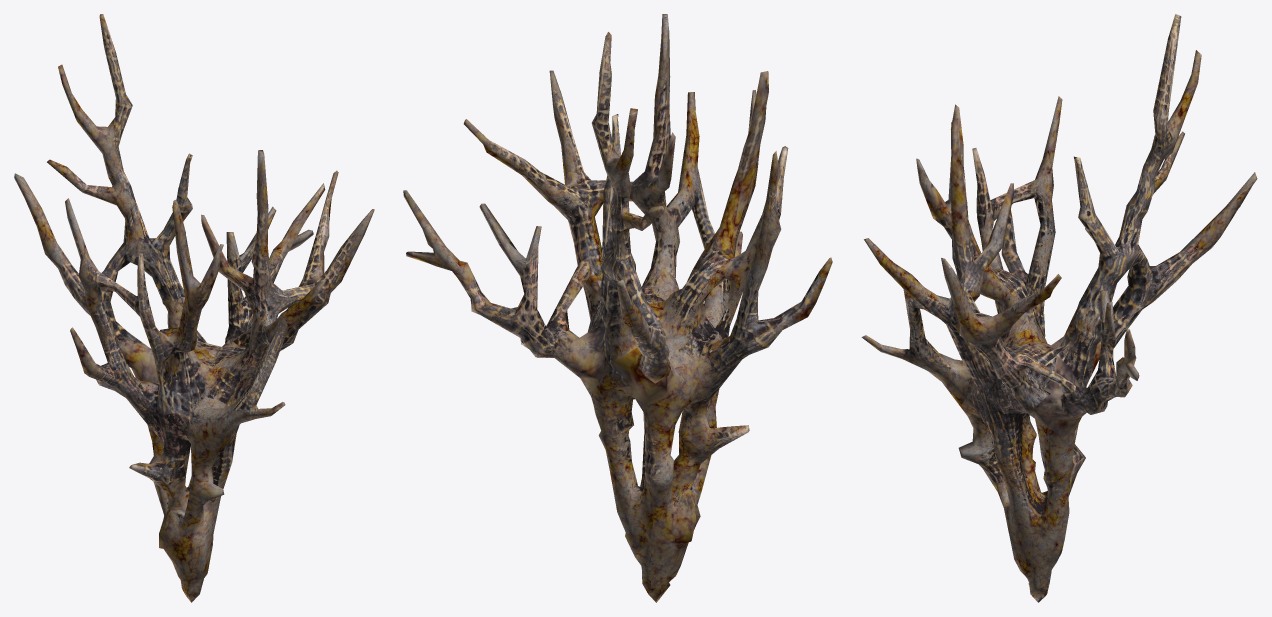
File: P_VariationBranch03.fbx
The picture shows the model from 3 angles, left to right: view 1: azimuth 30°, elevation 25°; view 2: azimuth 150°, elevation 25°; view 3: azimuth 270°, elevation 25°; orthographic projection. The views are drawn at different scales.
Parts seen in each view (by area): view 1: P_VariationBranch03; view 2: P_VariationBranch03; view 3: P_VariationBranch03.
Boxes of the visible parts, <box> form: P_VariationBranch03: <box>14,14,374,602</box>; P_VariationBranch03: <box>403,14,832,602</box>; P_VariationBranch03: <box>861,14,1257,602</box>.
Size of the model in its own units: 1219 by 2036 by 1266.
